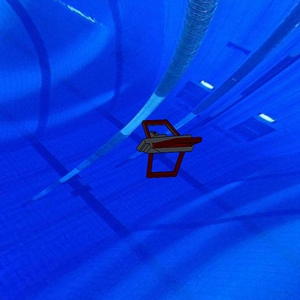submarine: (137, 114, 205, 184)
